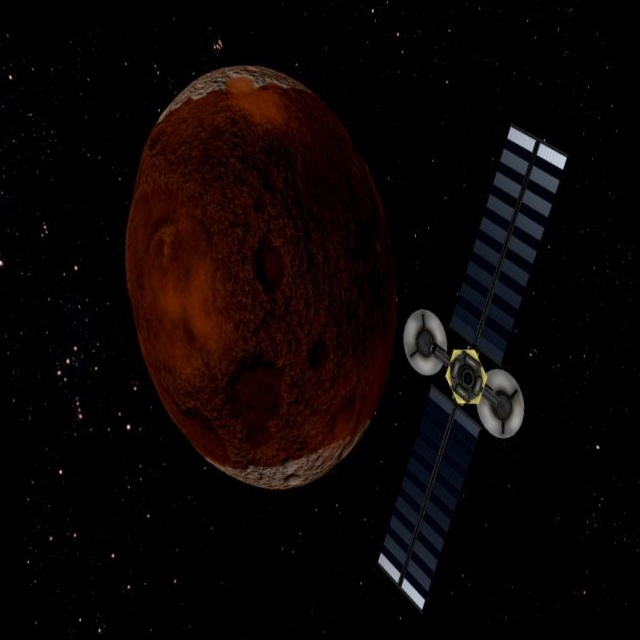medium_debris: (348, 116, 577, 640)
